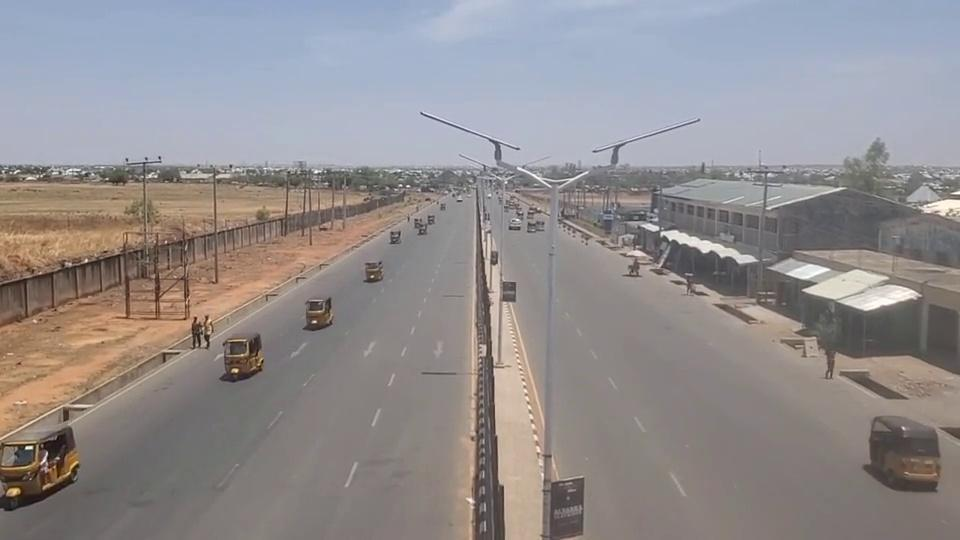keke: (0, 423, 80, 507), (867, 414, 941, 488), (221, 332, 264, 380), (304, 297, 333, 329), (364, 258, 384, 282)
